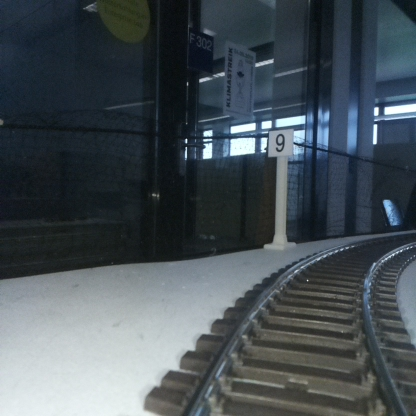white-info-9: (268, 127, 293, 248)
